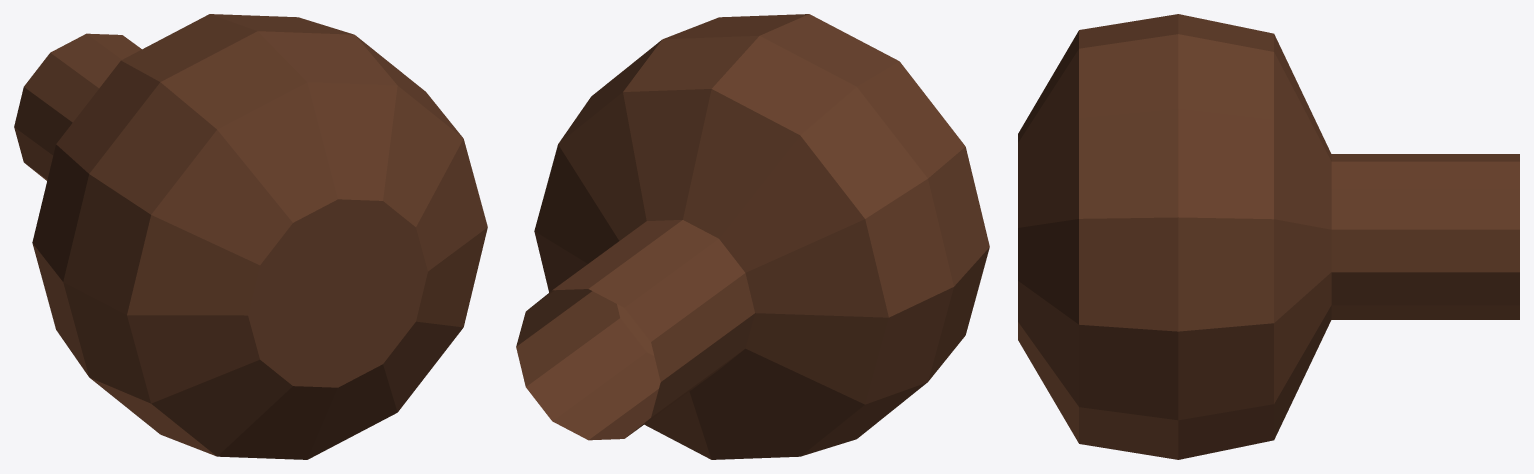
Rendered from CashRegister_drawerHandle.fbx.
3 renders of one model, left to right at view 1: azimuth 30°, elevation 25°; view 2: azimuth 150°, elevation 25°; view 3: azimuth 270°, elevation 25°, orthographic.
Visible parts, largest first — view 1: CashRegister_drawerHandle; view 2: CashRegister_drawerHandle; view 3: CashRegister_drawerHandle.
Boxes of the visible parts, box(x1,y1,x2,y2) form: CashRegister_drawerHandle: box(14, 14, 487, 459); CashRegister_drawerHandle: box(516, 14, 989, 459); CashRegister_drawerHandle: box(1018, 14, 1519, 459).
Bounding box in the file's own units: 8.2 × 8.2 × 9.19.
